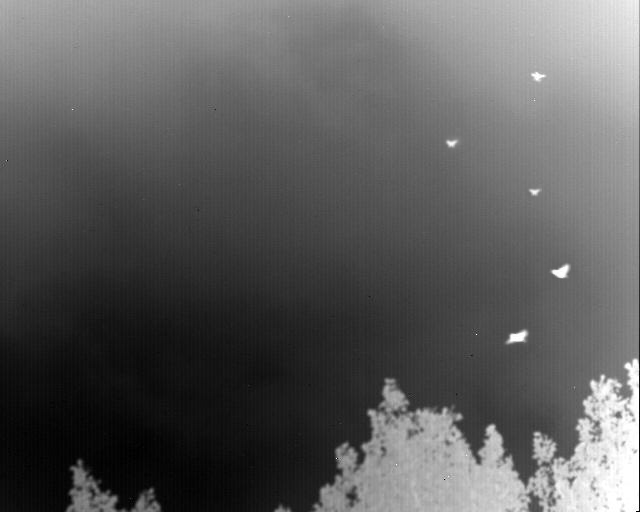plane: (531, 71, 545, 81), (446, 139, 458, 148), (528, 188, 541, 196)
